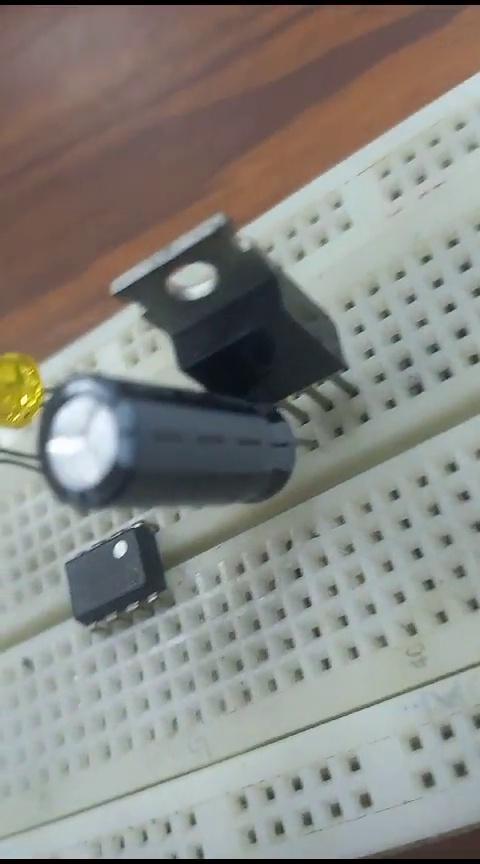IC: (55, 531, 172, 616)
LED: (2, 340, 40, 427)
capacitor: (46, 372, 312, 512)
voltage regulator: (94, 208, 366, 380)
